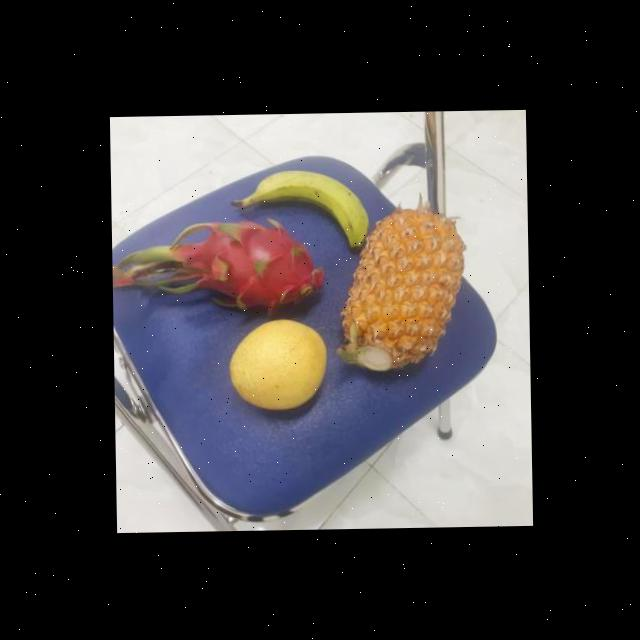banana: (243, 168, 368, 248)
pear: (235, 316, 330, 411)
pineapple: (337, 208, 468, 373)
pitaya: (180, 218, 330, 320)
